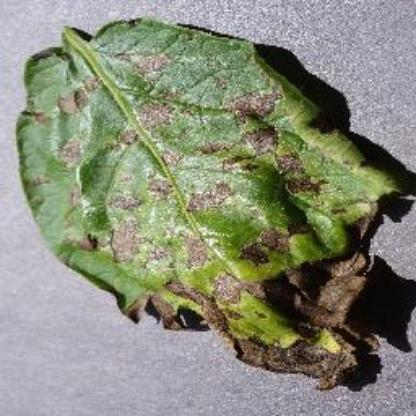Early-Blight: (11, 14, 408, 392)
